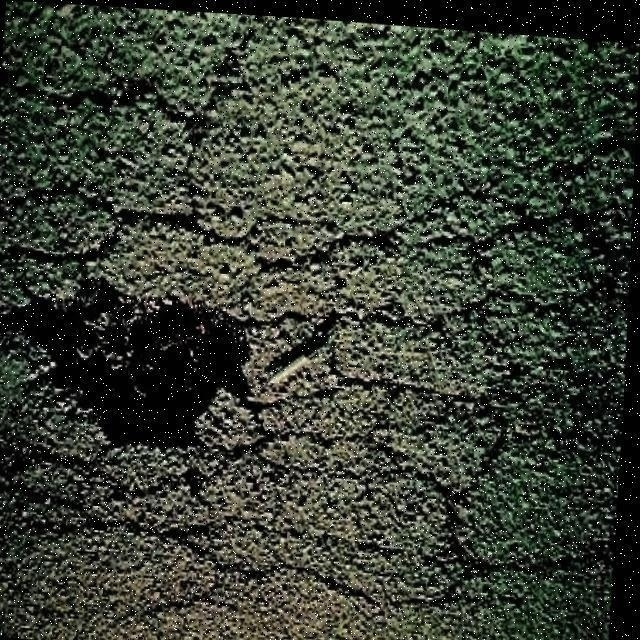pothole: (0, 260, 265, 464)
